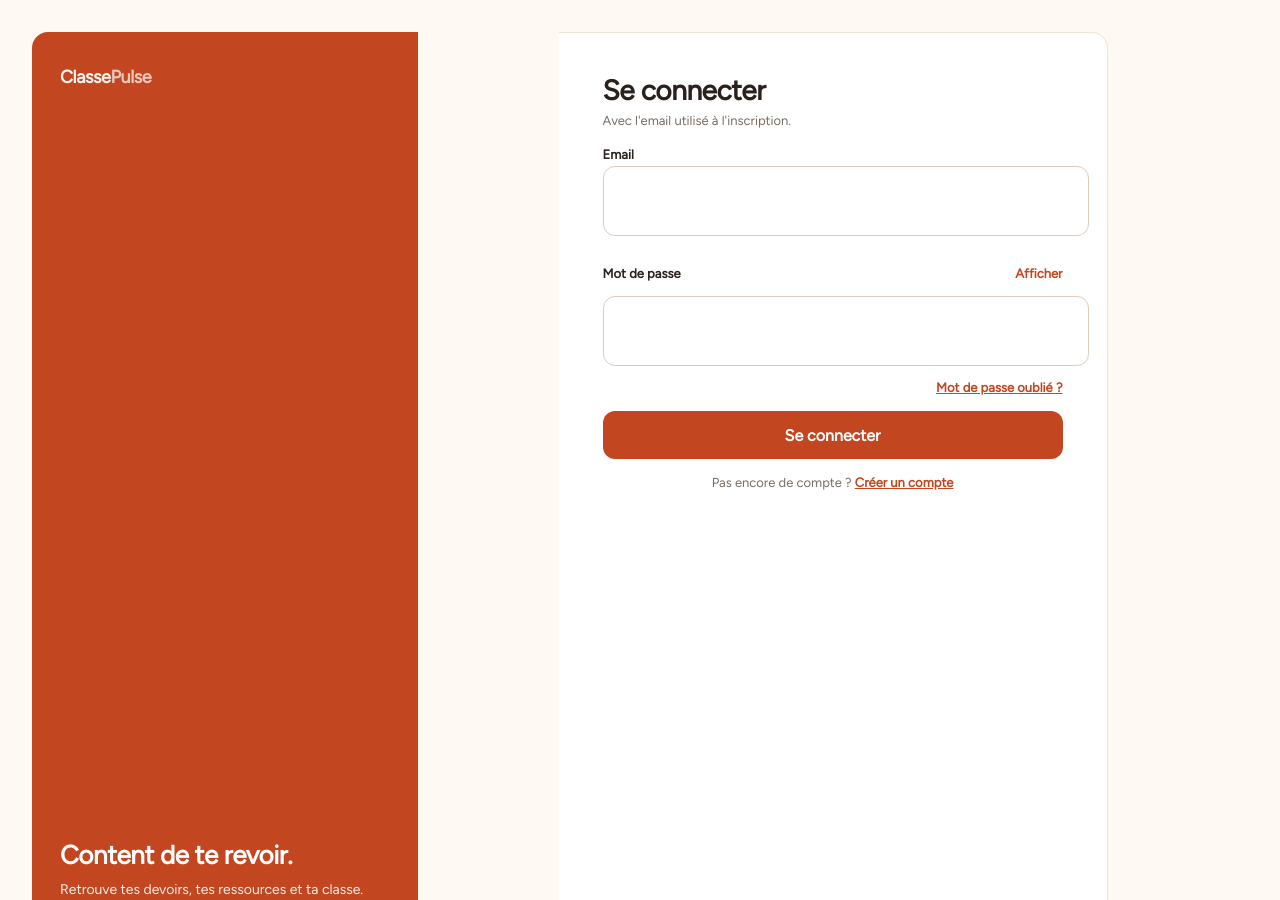
Test: connexion (P2, M8) › INVALID_CREDENTIALS affiche le message identique de la spécification
Type "awa@example.com" into the field labelled "Email".
click(846, 200); type("awa@example.com")  # box [602,166,1088,236]
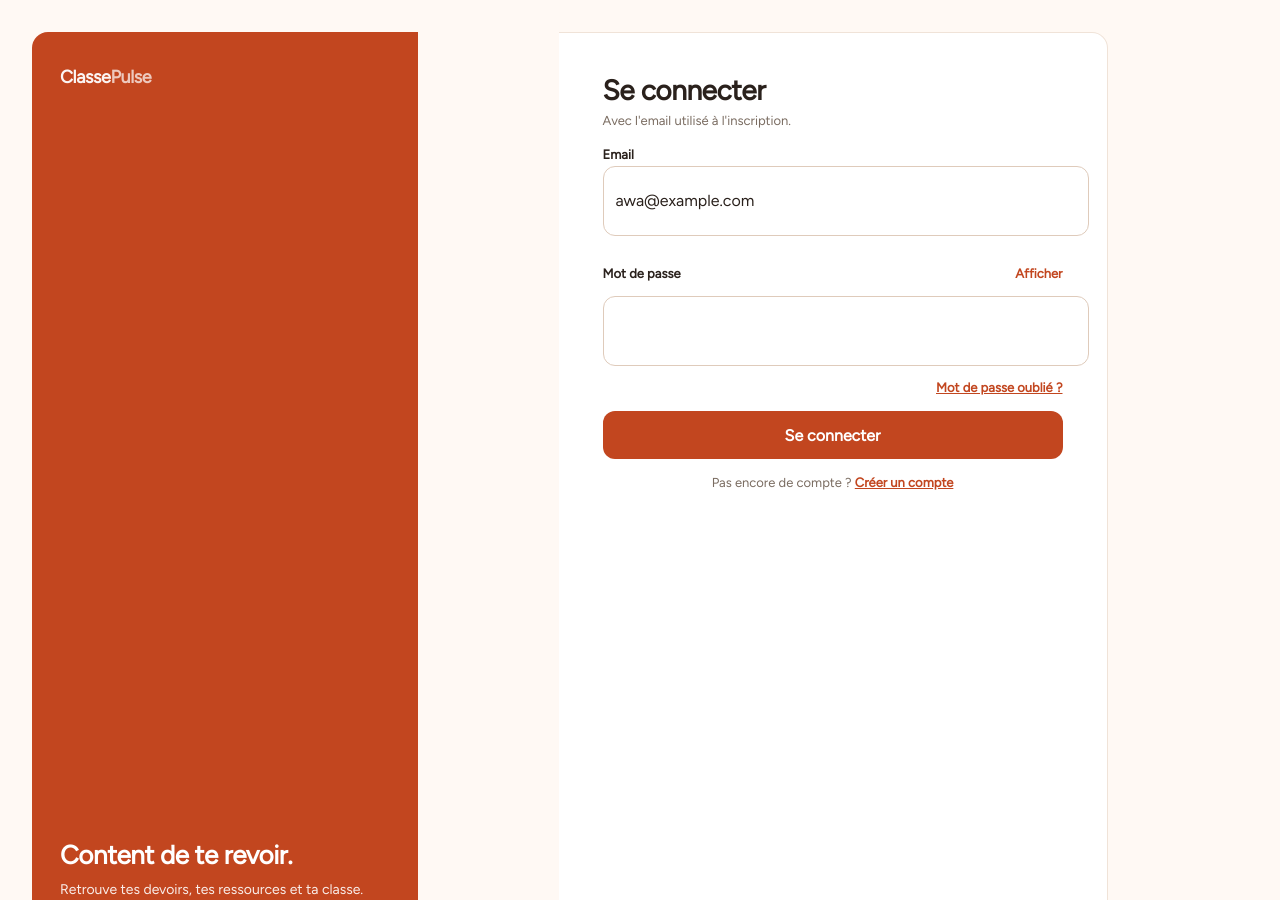
Type "une phrase de passe" into the password field labelled "Mot de passe".
click(846, 330); type("une phrase de passe")  # box [602,296,1088,366]
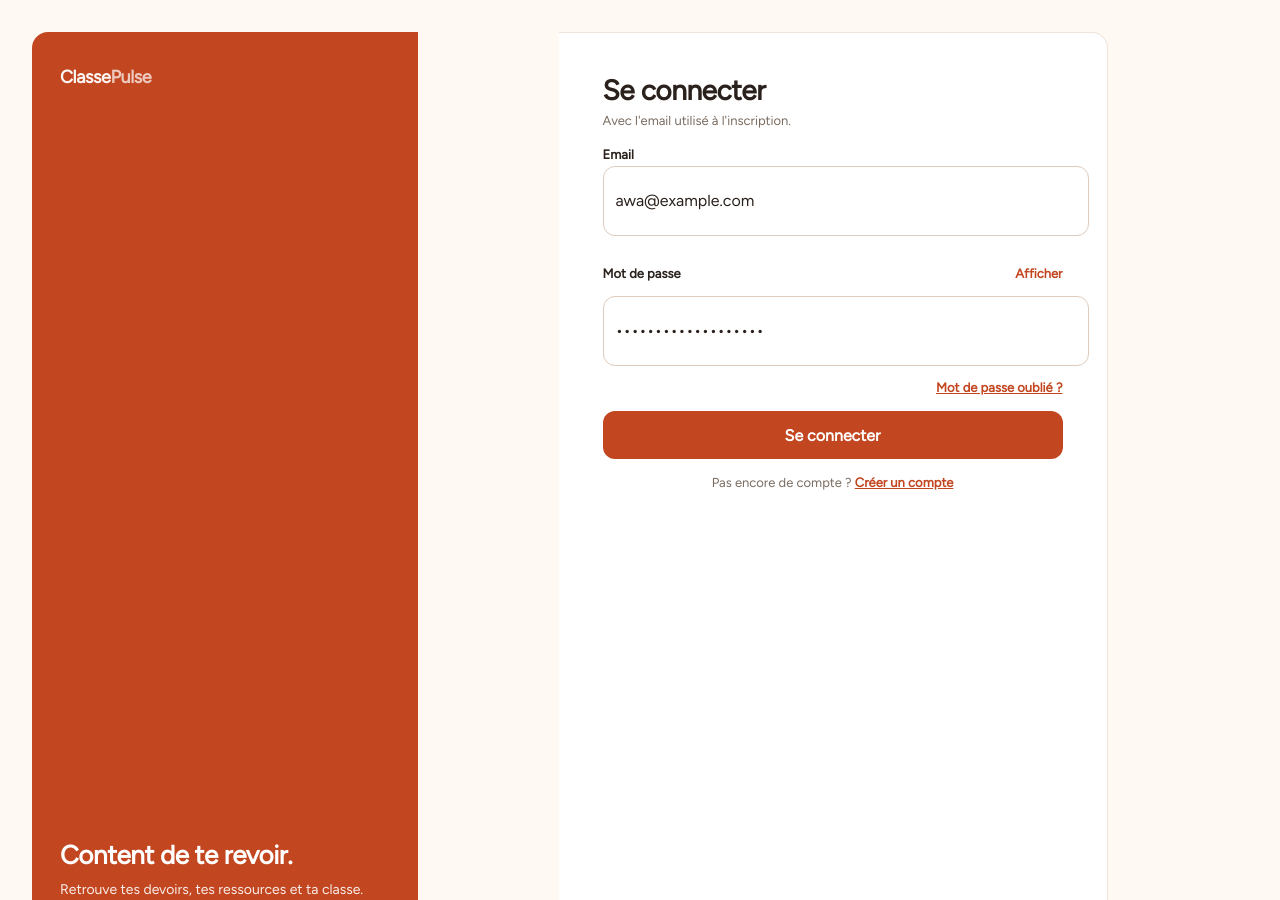
Click the button "Se connecter".
click(832, 435)  # box [602,411,1062,459]
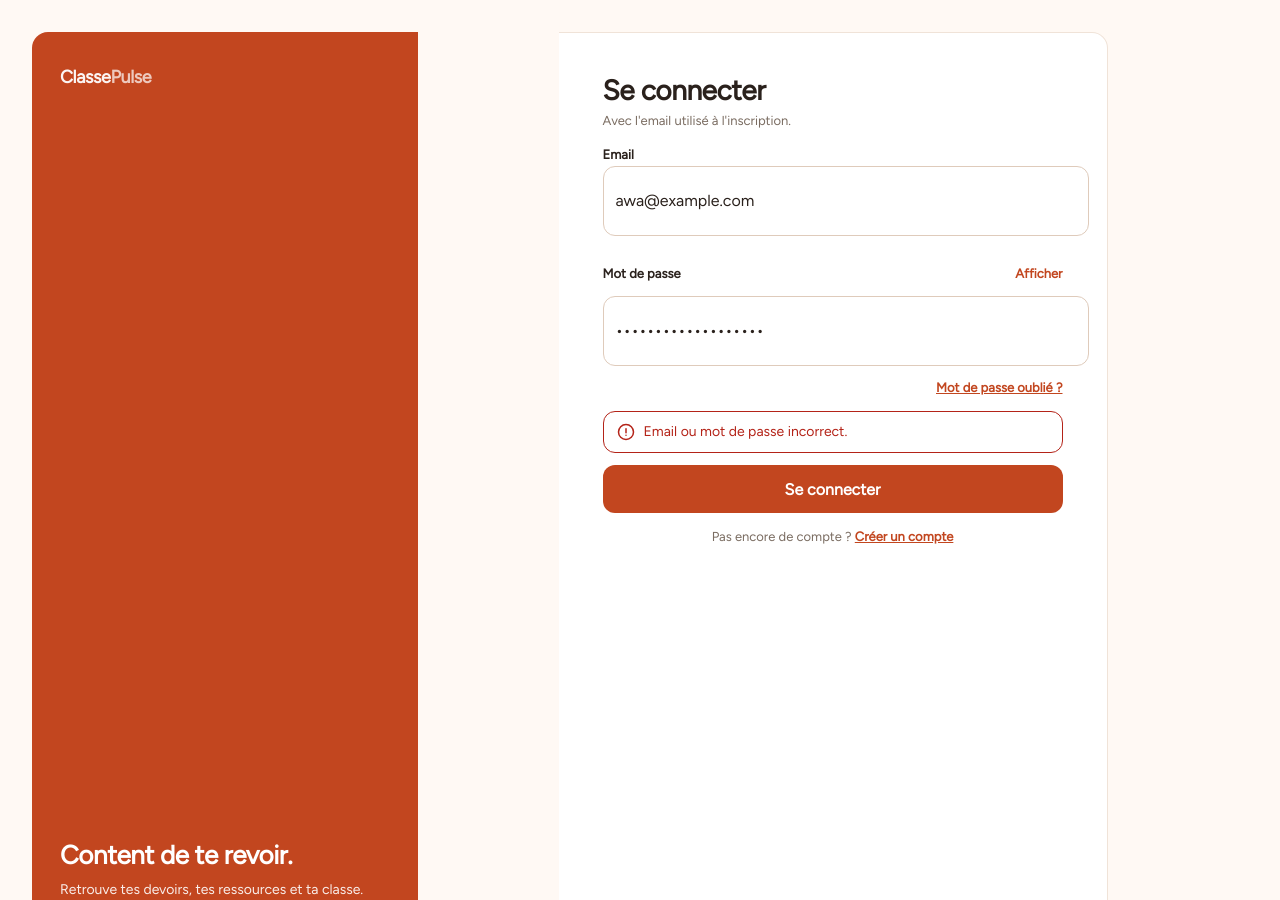
Now the message reads "Email ou mot de passe incorrect.", box [644,423,847,440]
